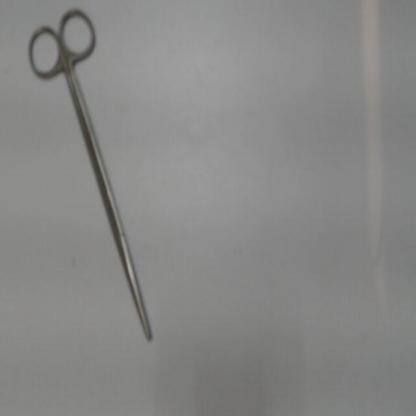9 Metzenbaum Scissors: (22, 5, 157, 353)
